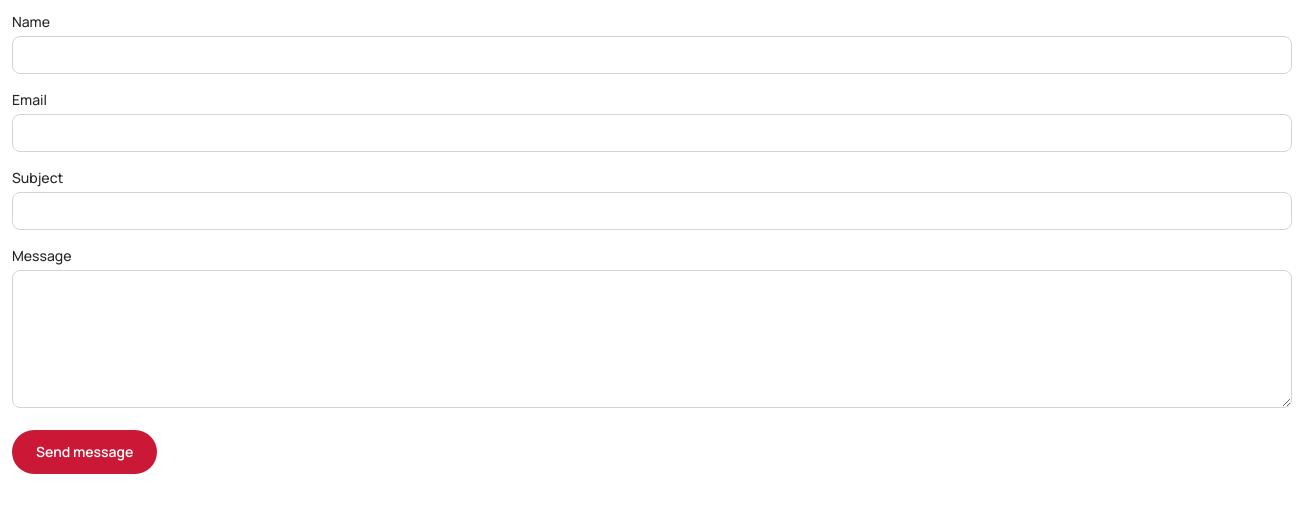
Test: ContactForm › submits valid data and shows the success state
Type "Sam" into the field labelled "Name".
click(652, 55); type("Sam")  # box [12, 36, 1292, 74]
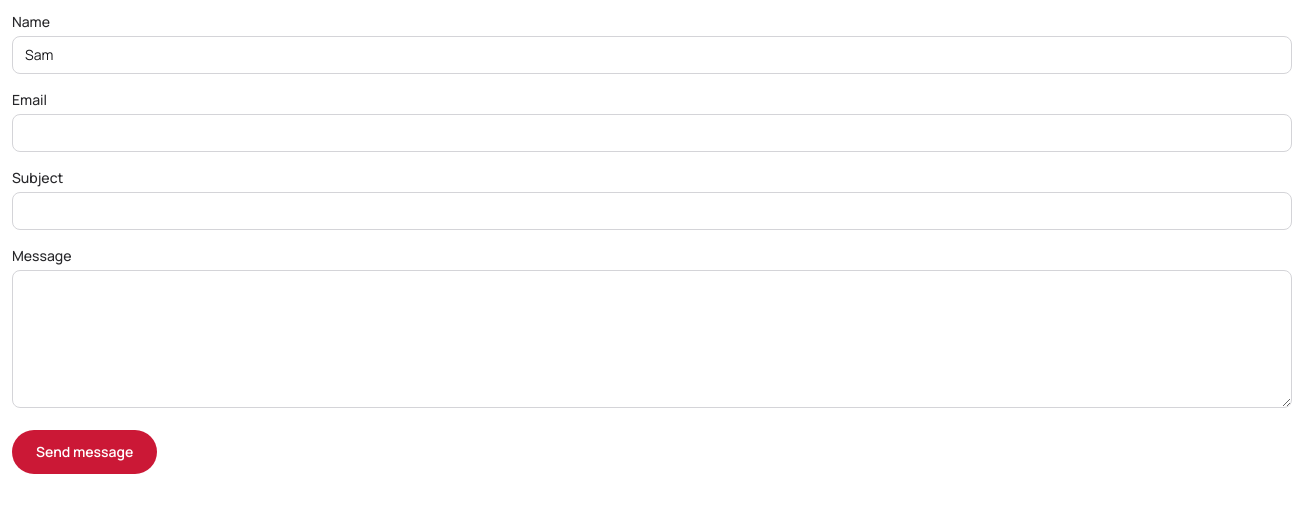
Type "sam@example.com" into the field labelled "Email".
click(652, 133); type("sam@example.com")  # box [12, 114, 1292, 152]
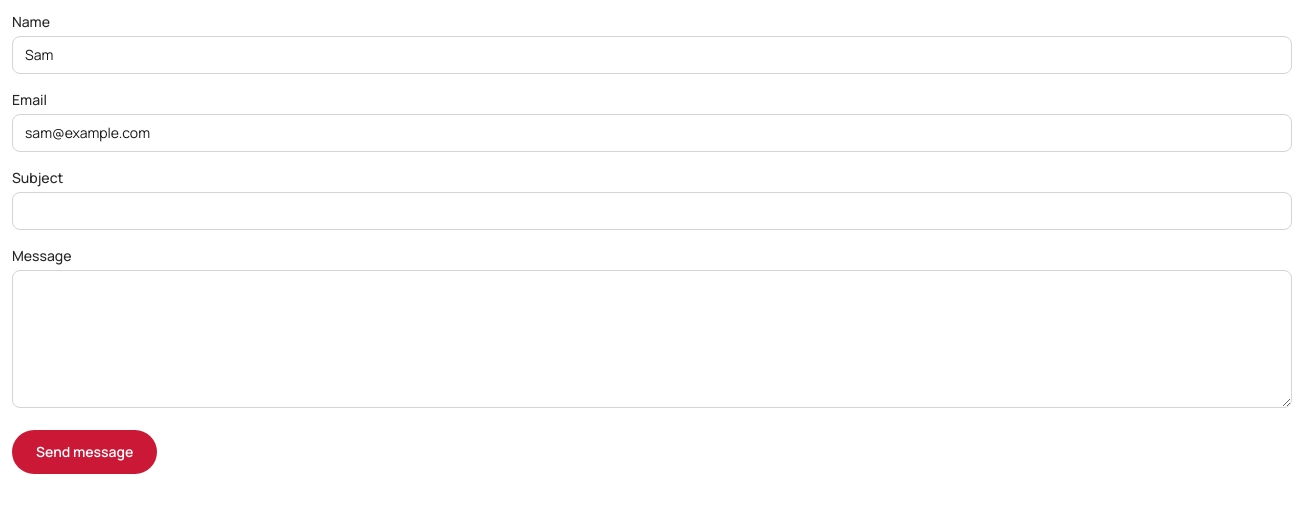
Type "Hi" into the field labelled "Subject".
click(652, 211); type("Hi")  # box [12, 192, 1292, 230]
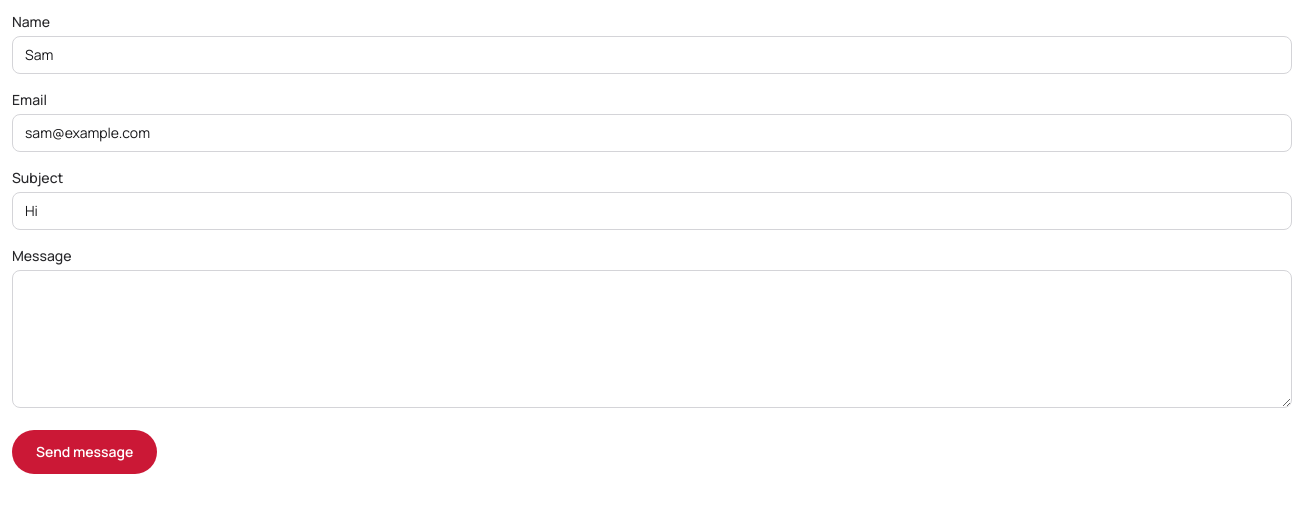
Type "I want to start a brand." into the text box labelled "Message".
click(652, 339); type("I want to start a brand.")  # box [12, 270, 1292, 408]
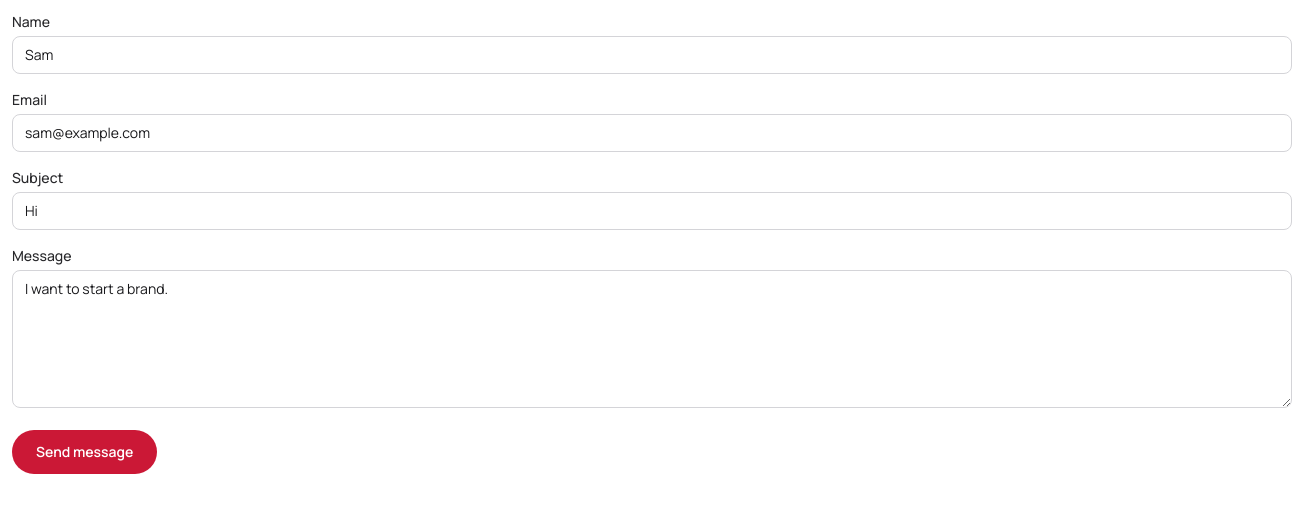
Click the button "Send message".
click(85, 452)  # box [12, 430, 158, 474]
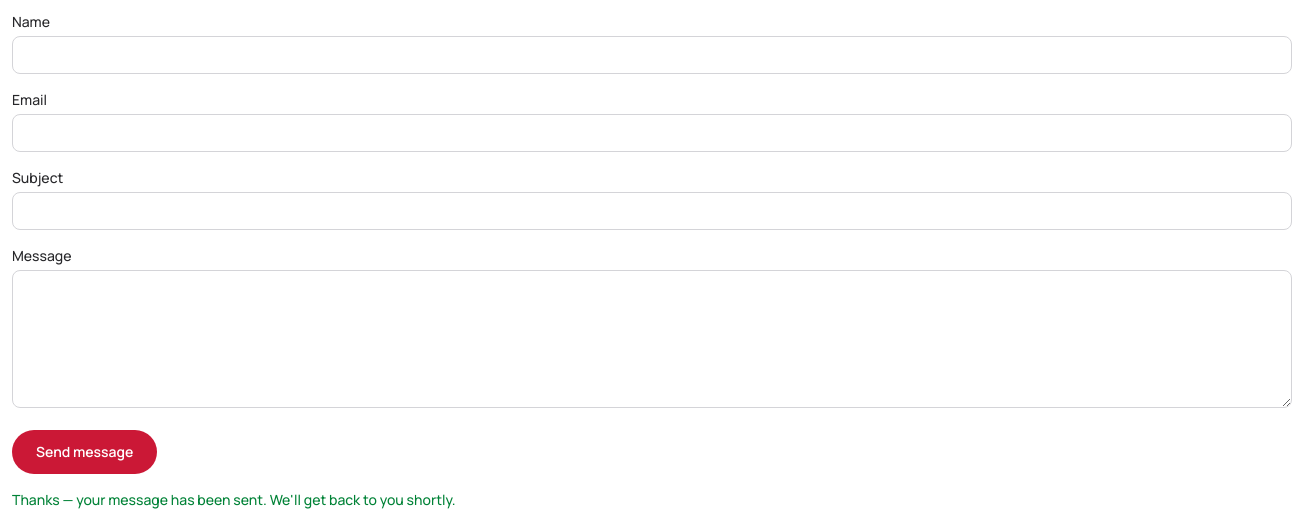
expect the text "Thanks — your message has been sent. We'll get back to you shortly." is shown: met, box [12, 490, 456, 509]
